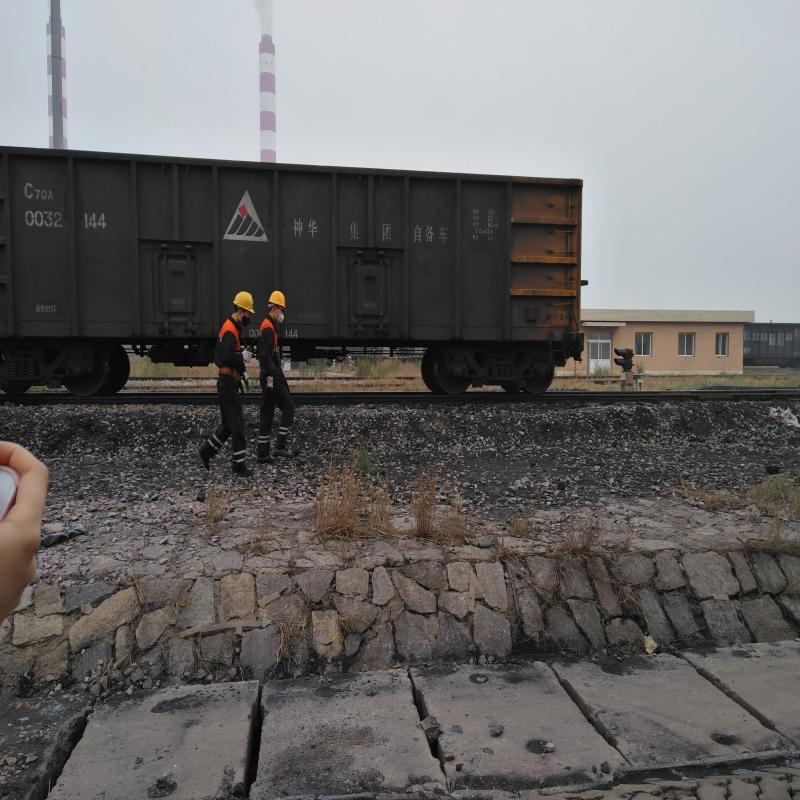train: (296, 158, 567, 396)
